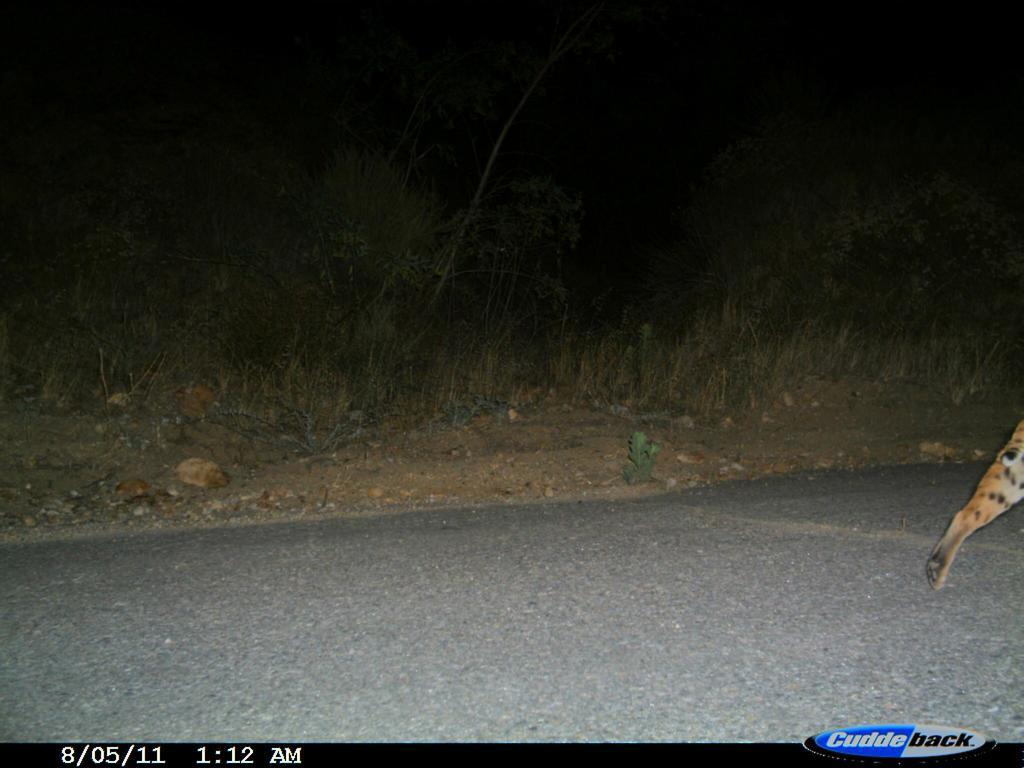bobcat: (921, 390, 1023, 593)
